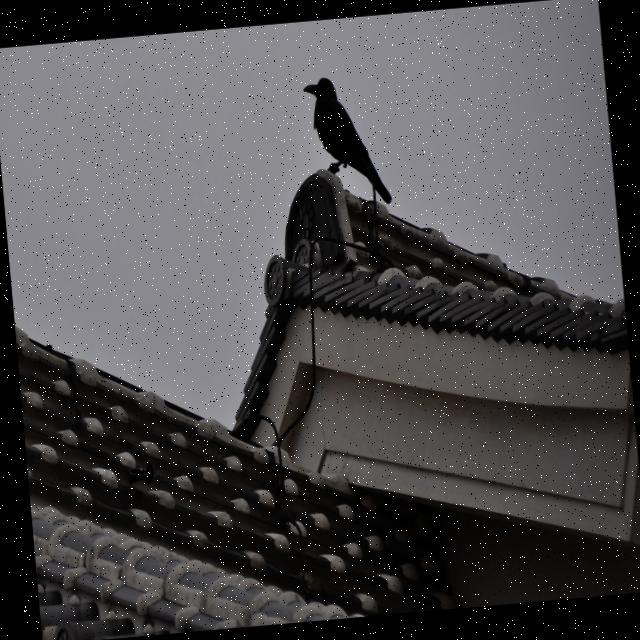bird: (301, 70, 394, 214)
